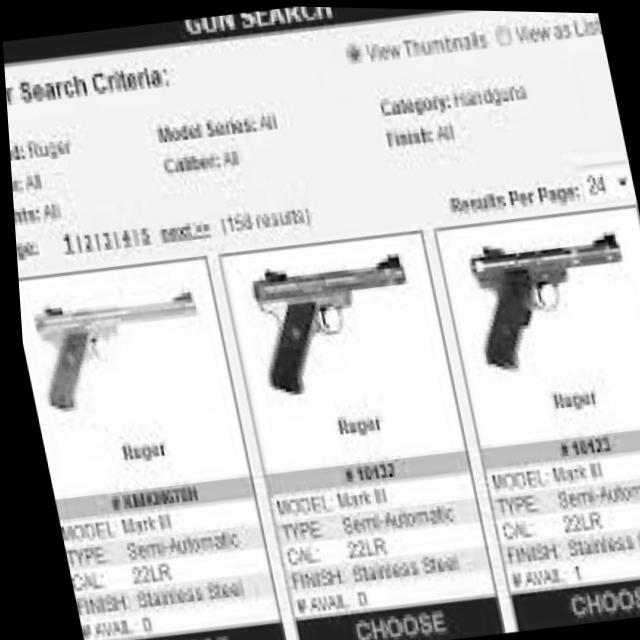weapon: (240, 245, 422, 398), (456, 223, 638, 373), (23, 282, 209, 412)
